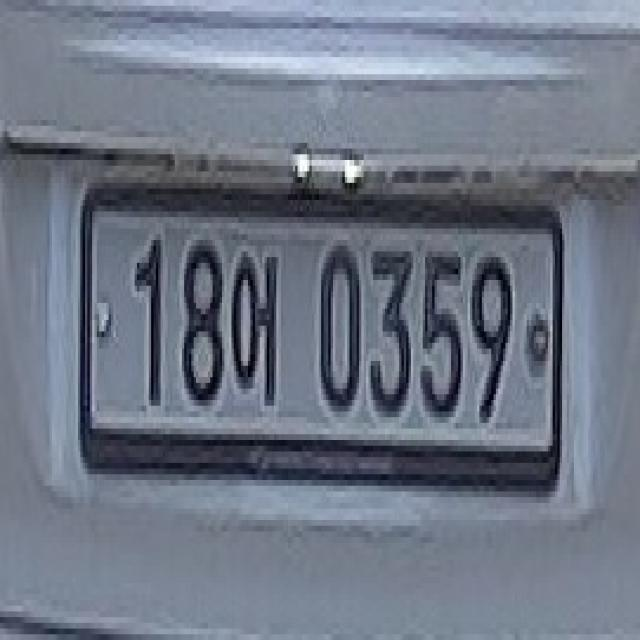0: (316, 240, 362, 423)
1: (134, 223, 168, 423)
3: (366, 240, 413, 429)
5: (420, 246, 463, 428)
8: (179, 229, 222, 417)
9: (470, 246, 512, 434)
eo: (229, 246, 281, 417)
license_plate: (73, 177, 567, 514)
